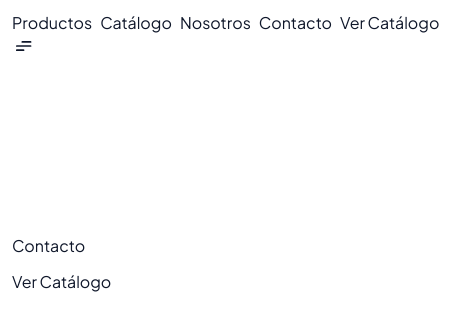
Test: Header › toggles the mobile menu and its aria state
Click the button named "Abrir menú" at (23, 46), box 12,35 -> 34,57
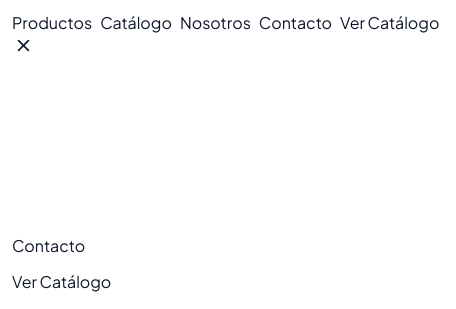
Expected: the button named "Cerrar menú" is expanded
Click the button named "Cerrar menú" at (23, 46), box 12,35 -> 34,57
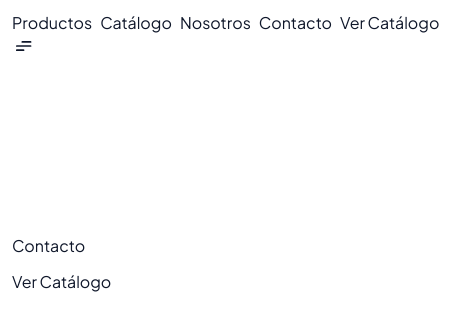
Expected: the button named "Abrir menú" is collapsed, 12,35 -> 34,57
